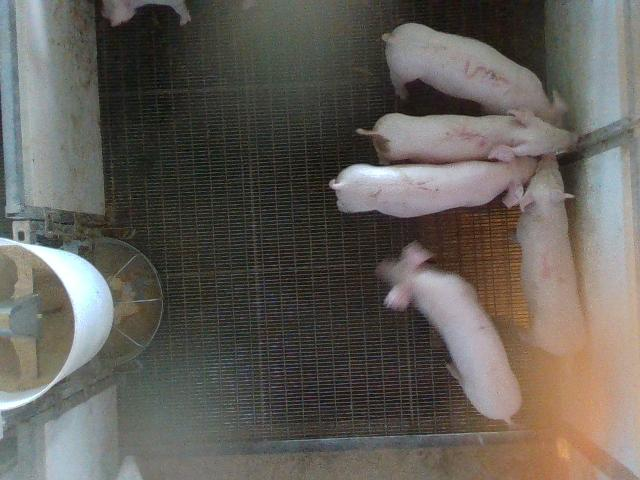pig-3: (382, 22, 568, 127)
pig-4: (516, 155, 586, 355)
pig-5: (356, 111, 575, 164)
